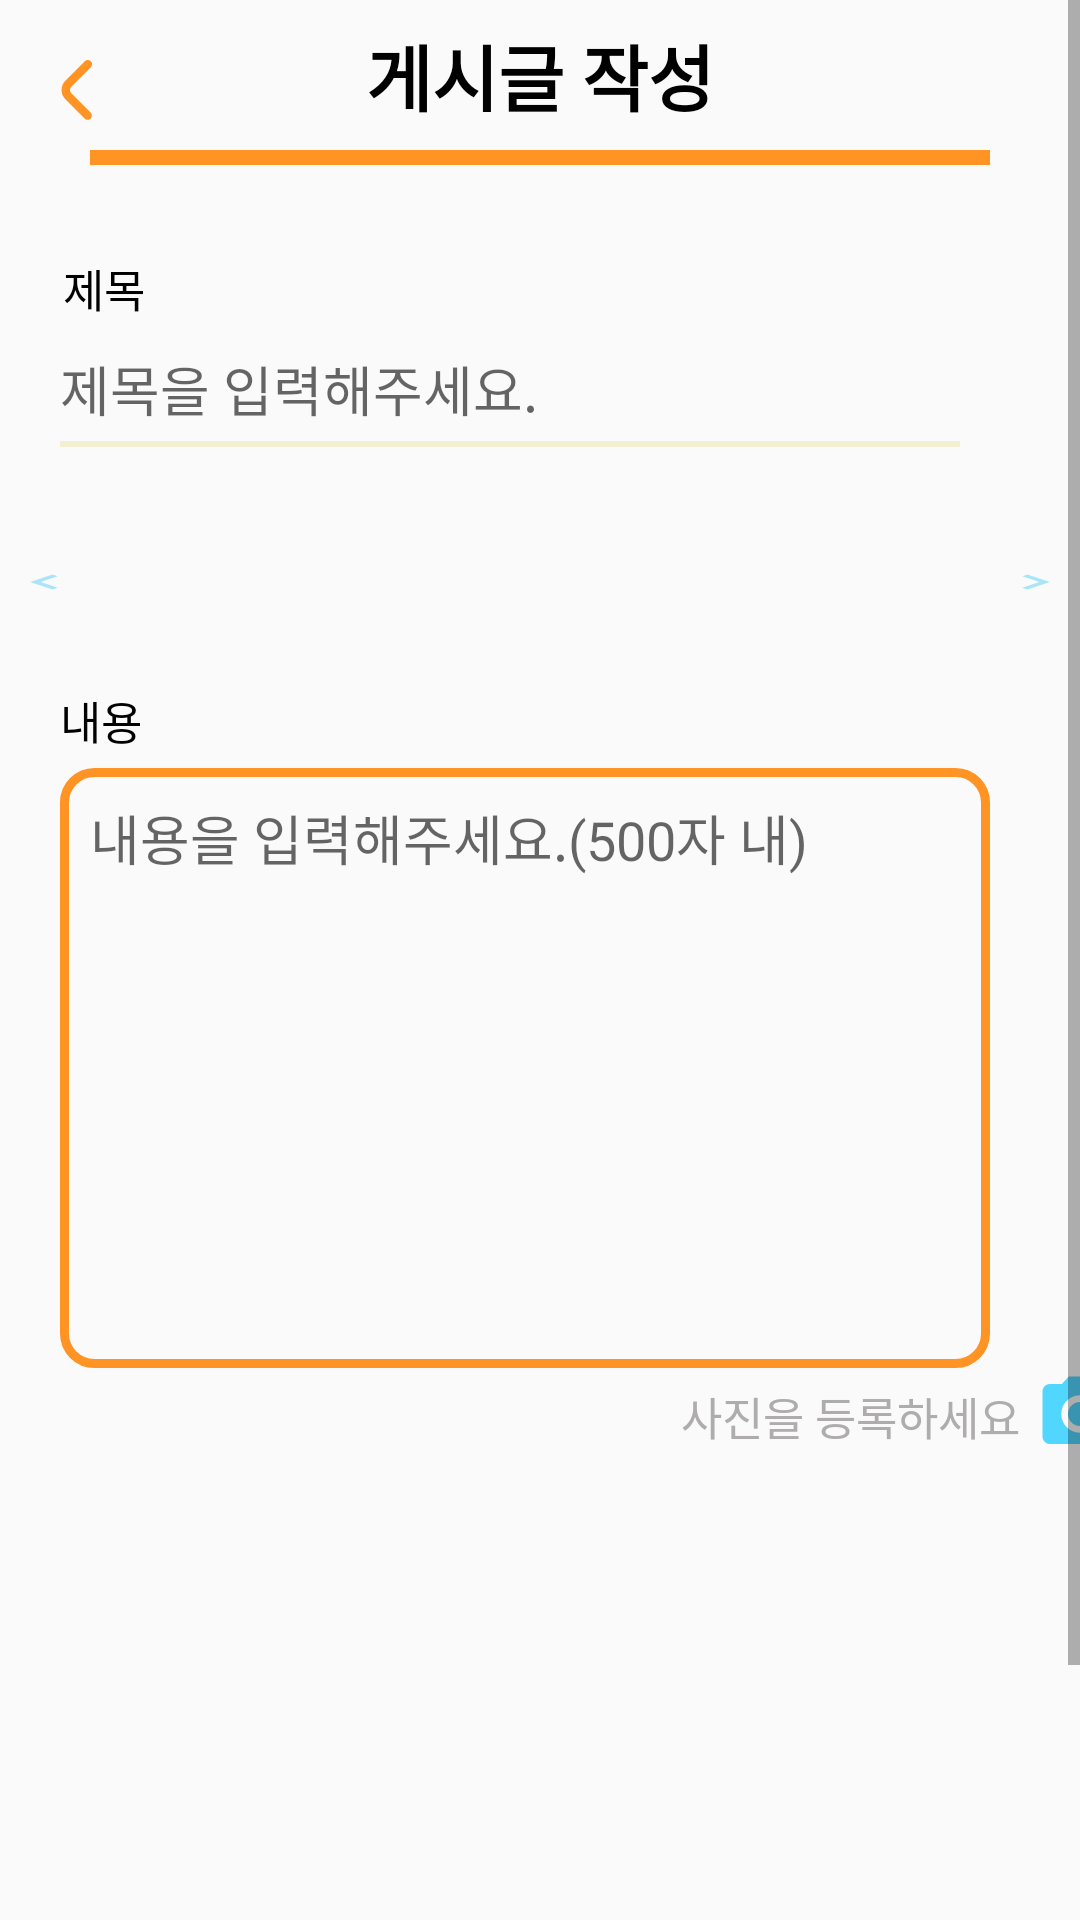

Icons on this 1080 x 1920 Android screen, each with the point to tap as (x=x, y=y):
back signiture: (x=76, y=90)
